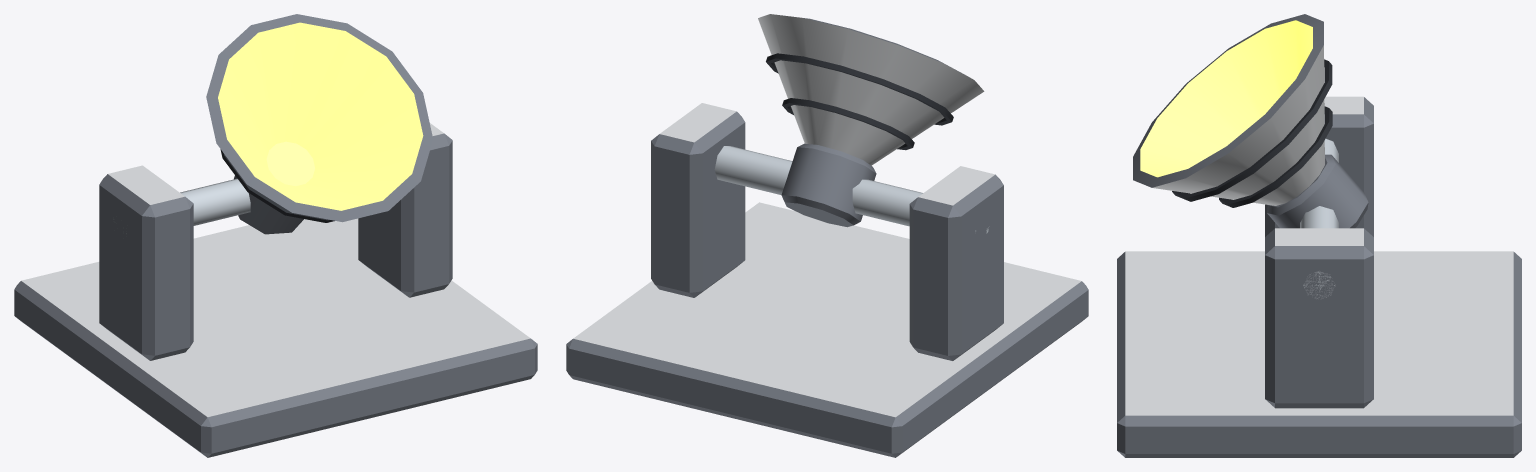
File: R4X_DeployableAmplifier_LOD1.fbx
3 renders of one model, left to right at view 1: azimuth 30°, elevation 25°; view 2: azimuth 150°, elevation 25°; view 3: azimuth 270°, elevation 25°, orthographic. The views are drawn at different scales.
Visible parts, largest first — view 1: R4X_DeployableAmplifier_LOD1; view 2: R4X_DeployableAmplifier_LOD1; view 3: R4X_DeployableAmplifier_LOD1.
Boxes of the visible parts, bbox=[...] form: R4X_DeployableAmplifier_LOD1: bbox=[14, 14, 537, 457]; R4X_DeployableAmplifier_LOD1: bbox=[566, 14, 1088, 457]; R4X_DeployableAmplifier_LOD1: bbox=[1117, 14, 1521, 457].
Bounding box in the file's own units: 0.52 × 0.4855 × 0.52.
